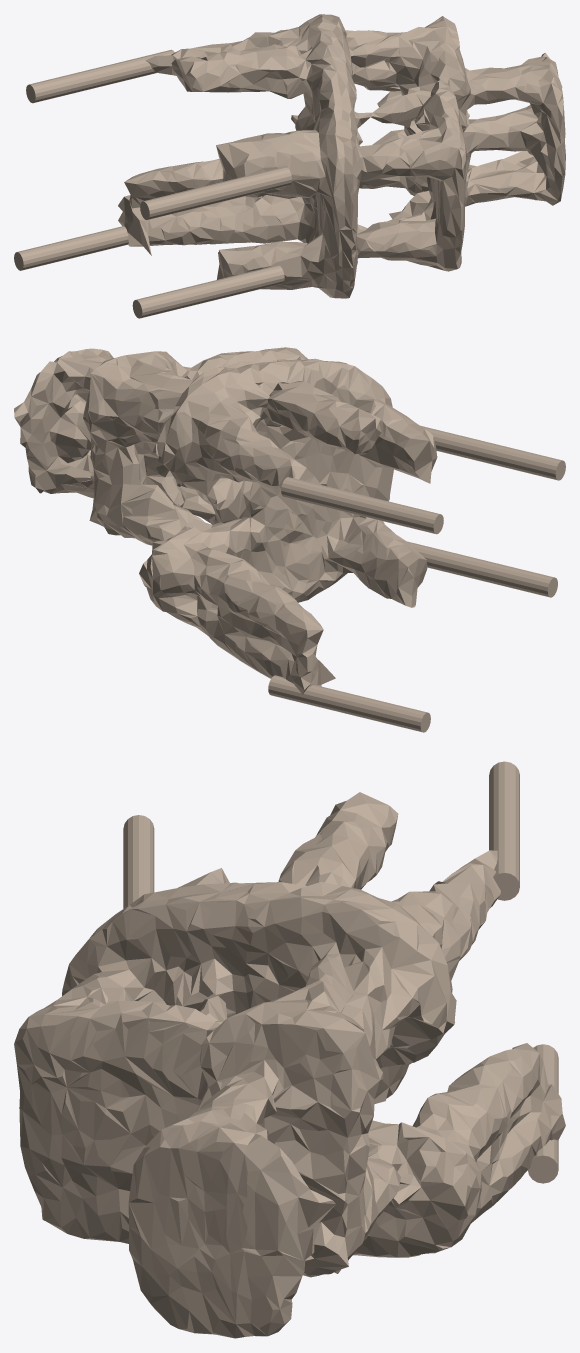
Rendered from improved.glb.
3 renders of one model, top to bottom at view 1: azimuth 30°, elevation 25°; view 2: azimuth 150°, elevation 25°; view 3: azimuth 270°, elevation 25°, orthographic. The views are drawn at different scales.
Parts seen in each view (by area): view 1: world; view 2: world; view 3: world.
Part boxes in pixels (box(x1,y1,x2,y2)): world: box(14, 14, 565, 318); world: box(14, 347, 565, 732); world: box(14, 761, 565, 1338).
Size of the model in its own units: 0.5 by 0.2451 by 0.3282.
